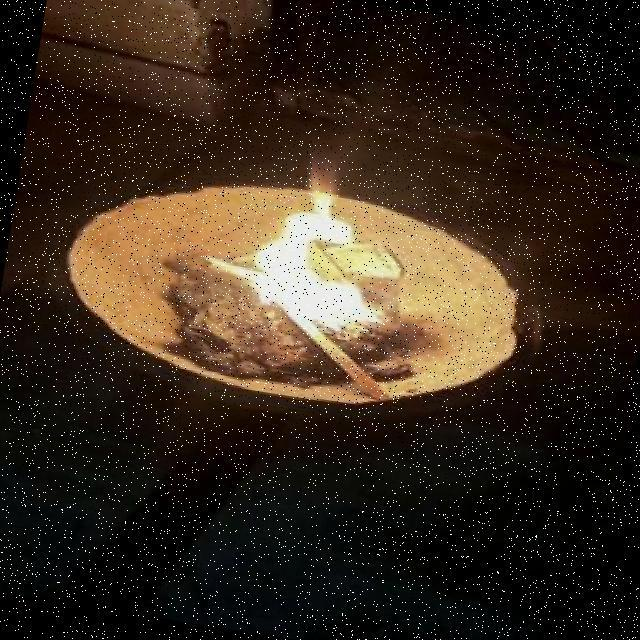Fire: (233, 182, 439, 340)
